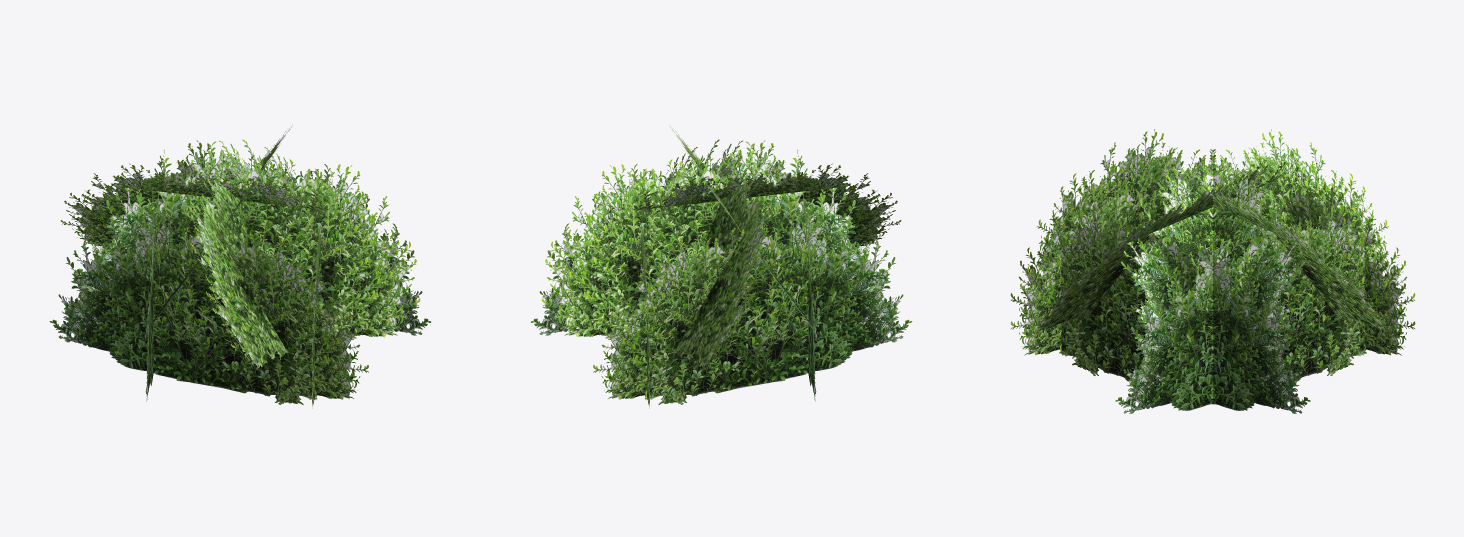
The model's file is Bush 1.fbx.
3 renders of one model, left to right at view 1: azimuth 30°, elevation 25°; view 2: azimuth 150°, elevation 25°; view 3: azimuth 270°, elevation 25°, orthographic.
Visible parts, largest first — view 1: Plane; view 2: Plane; view 3: Plane.
Part boxes in pixels (left/top/right/bottom): Plane: left=49, top=126, right=431, bottom=408; Plane: left=530, top=126, right=912, bottom=408; Plane: left=1010, top=129, right=1415, bottom=413.
Bounding box in the file's own units: 274 × 258 × 309.
